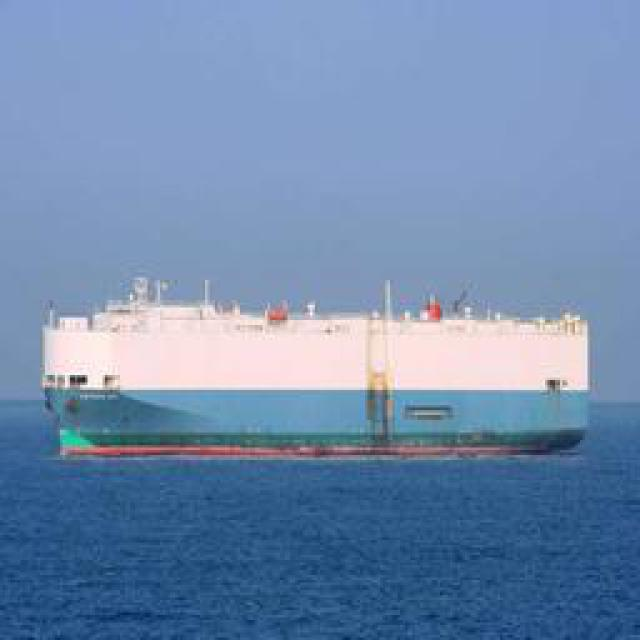Ship: (52, 300, 590, 455)
